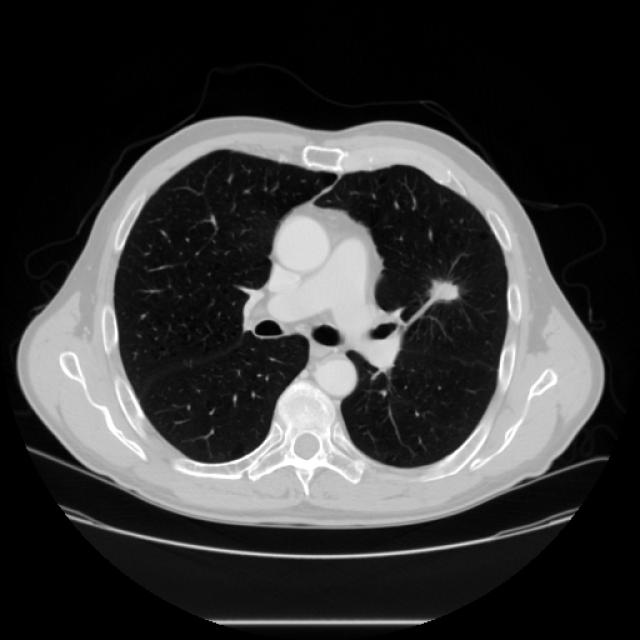nodule: (412, 260, 476, 325)
